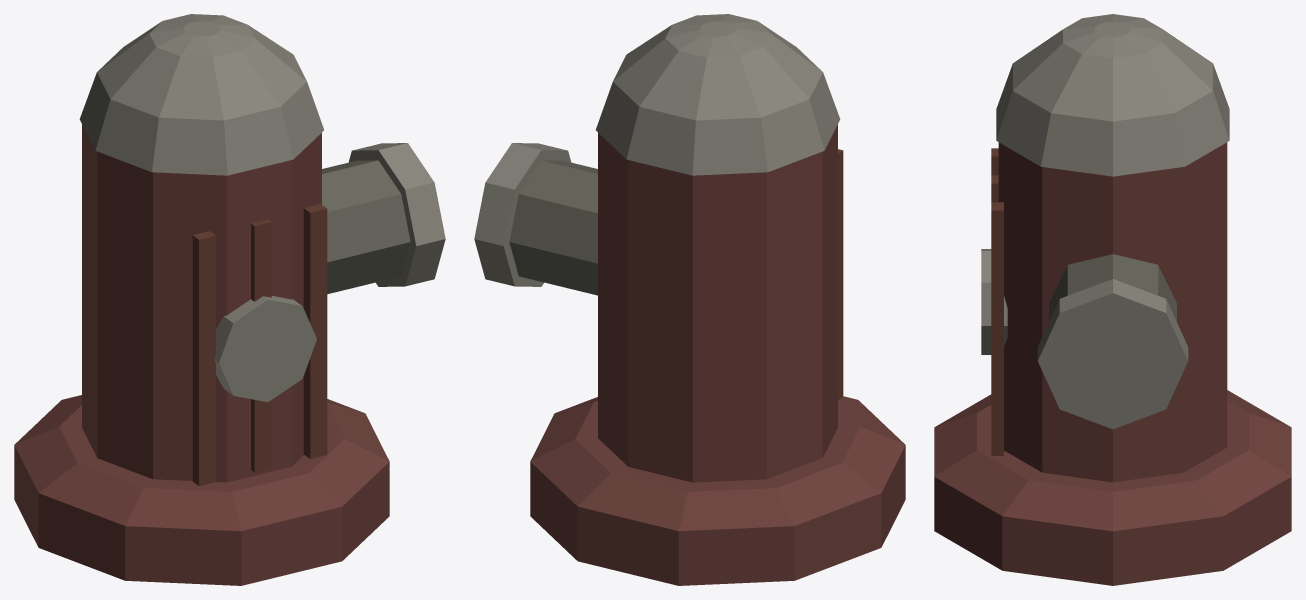
The model's file is ancient_hydrant.obj.
3 views of the same model, side by side, from view 1: azimuth 30°, elevation 25°; view 2: azimuth 150°, elevation 25°; view 3: azimuth 270°, elevation 25° (orthographic).
Visible parts, largest first — view 1: ancient_hydrant; view 2: ancient_hydrant; view 3: ancient_hydrant.
Part boxes in pixels (x1,y1,x2,y2): ancient_hydrant: [14, 14, 445, 585]; ancient_hydrant: [474, 14, 905, 585]; ancient_hydrant: [934, 14, 1291, 585].
Bounding box in the file's own units: 0.565 × 0.7 × 0.4755.
